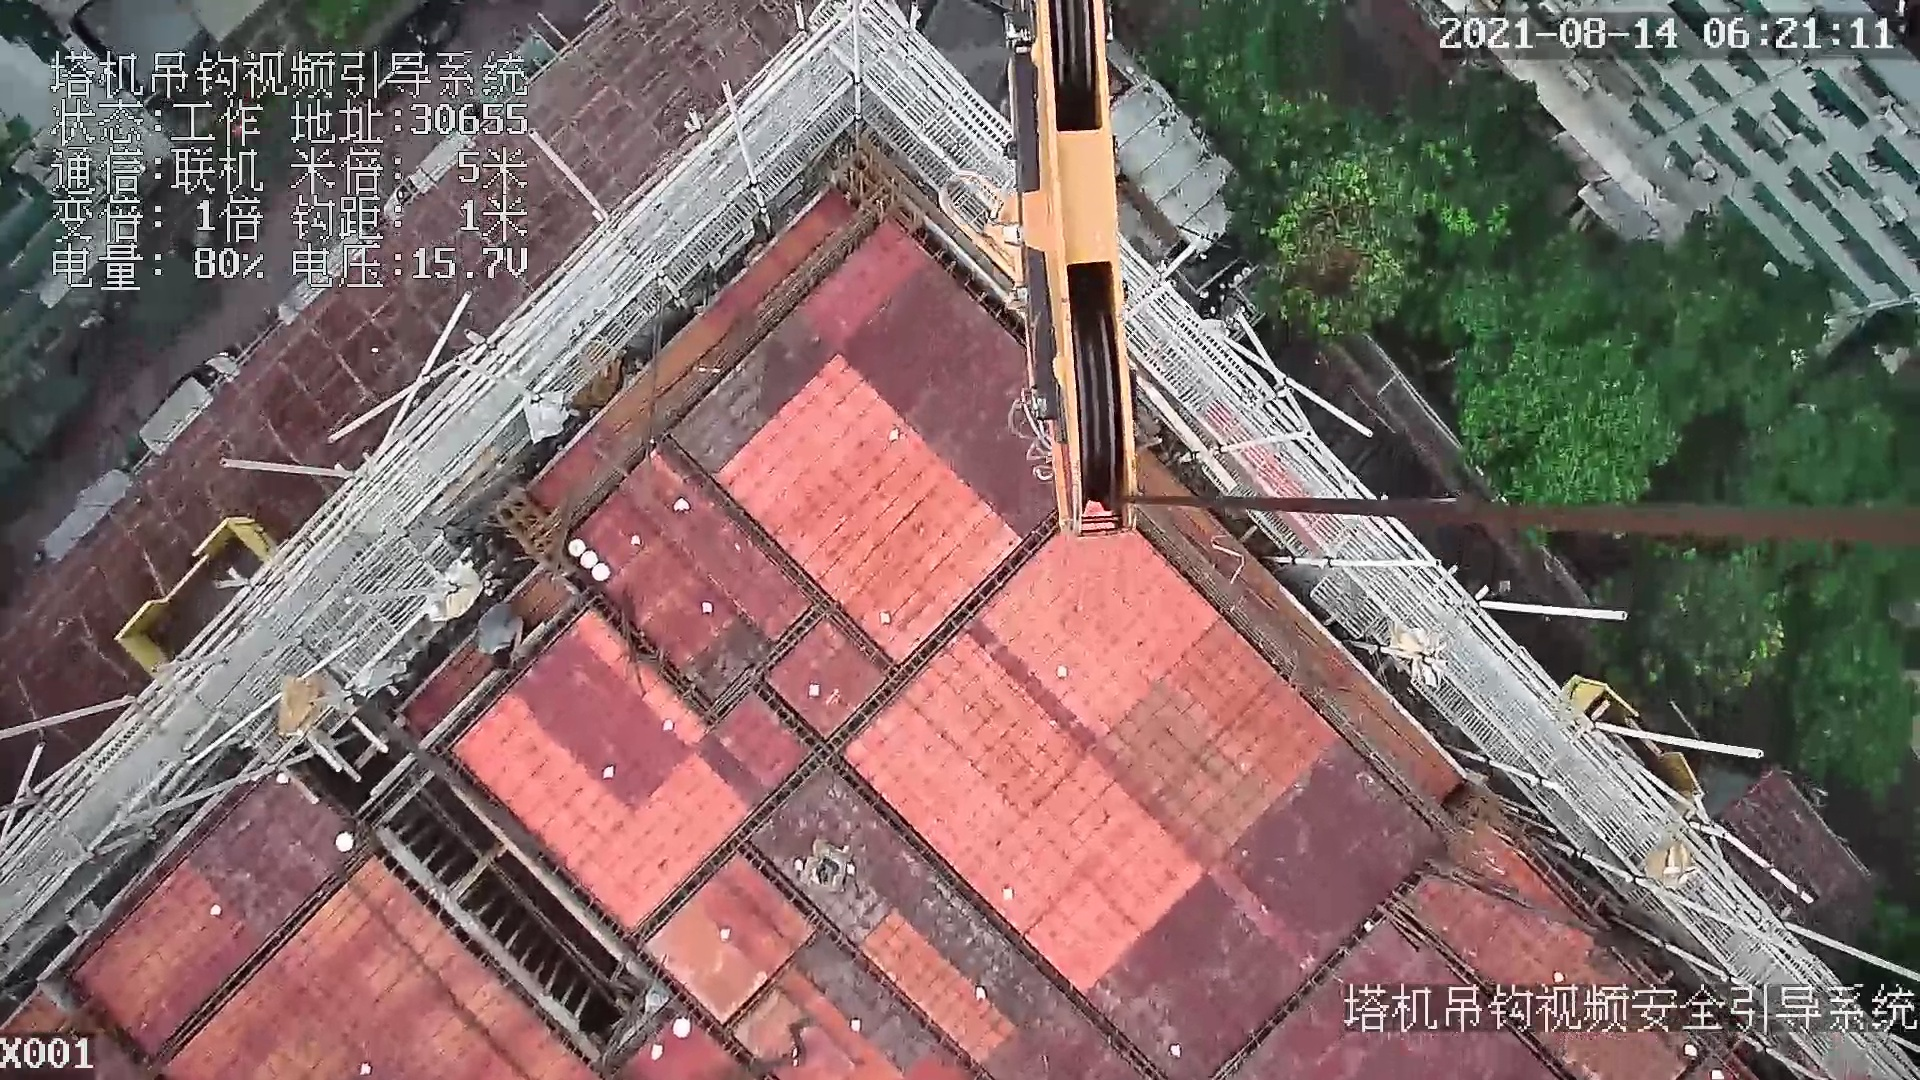hook: (1007, 1, 1150, 541)
person: (474, 602, 528, 675)
